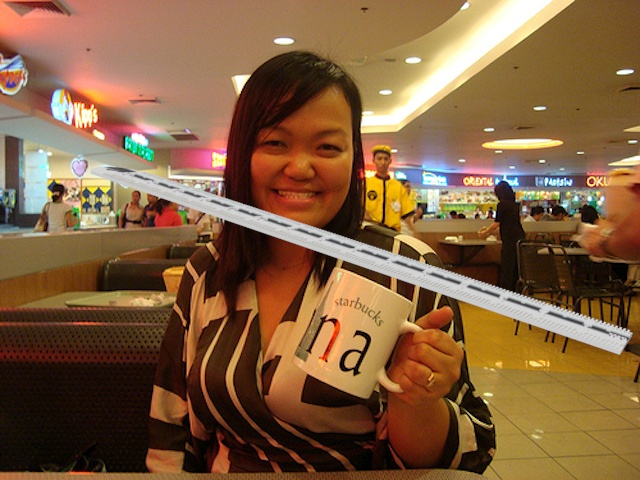ruler: (89, 161, 640, 360)
